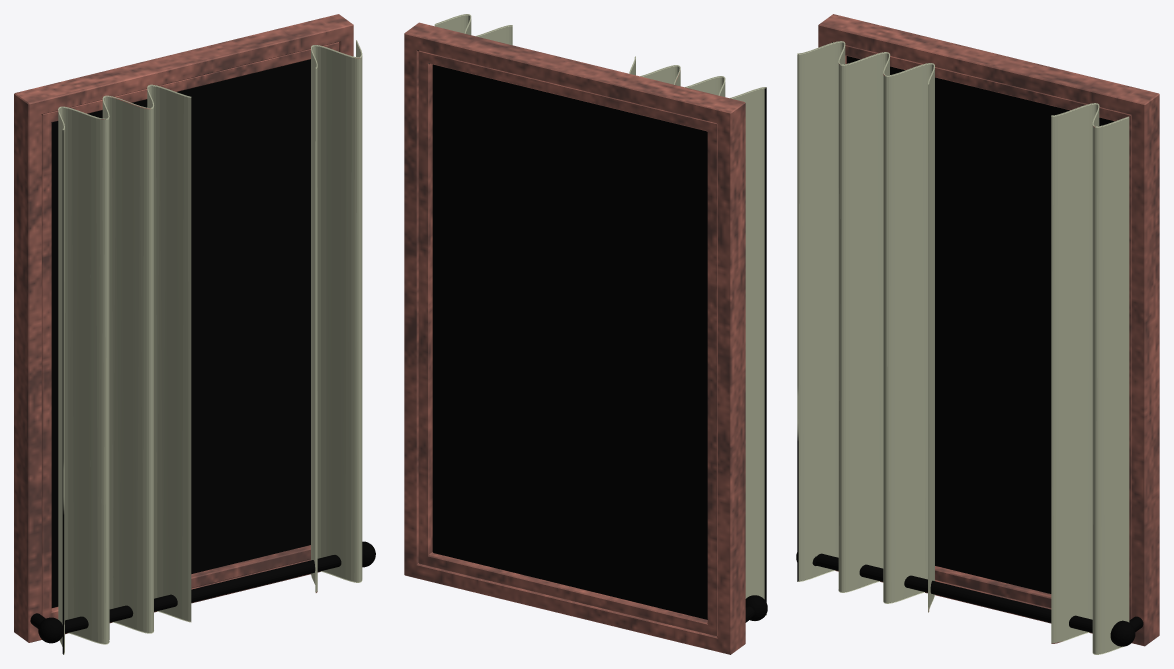
File: WindowFactory73448.spawn_asset12.glb
3 renders of one model, left to right at view 1: azimuth 30°, elevation 25°; view 2: azimuth 150°, elevation 25°; view 3: azimuth 330°, elevation 25°, orthographic.
Visible parts, largest first — view 1: WindowFactory(73448).spawn_asset(12).001; view 2: WindowFactory(73448).spawn_asset(12).001; view 3: WindowFactory(73448).spawn_asset(12).001.
Part boxes in pixels (<box>): WindowFactory(73448).spawn_asset(12).001: <box>14,14,375,654</box>; WindowFactory(73448).spawn_asset(12).001: <box>404,14,767,654</box>; WindowFactory(73448).spawn_asset(12).001: <box>796,14,1159,654</box>.
Bounding box in the file's own units: 0.914 × 1.41 × 0.2027.
1 material, 1 textured.
